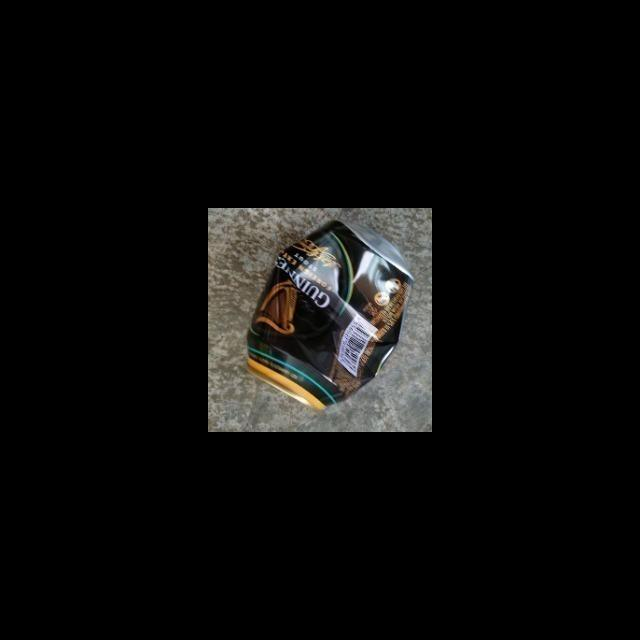metal: (238, 208, 416, 413)
